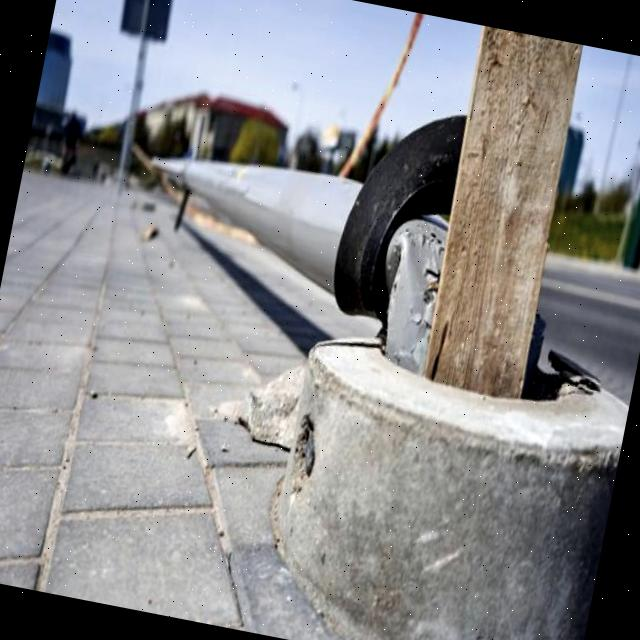Broken Pole: (148, 110, 468, 373)
